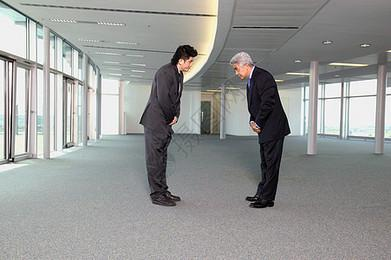bending: (229, 50, 293, 217), (139, 44, 200, 208)
